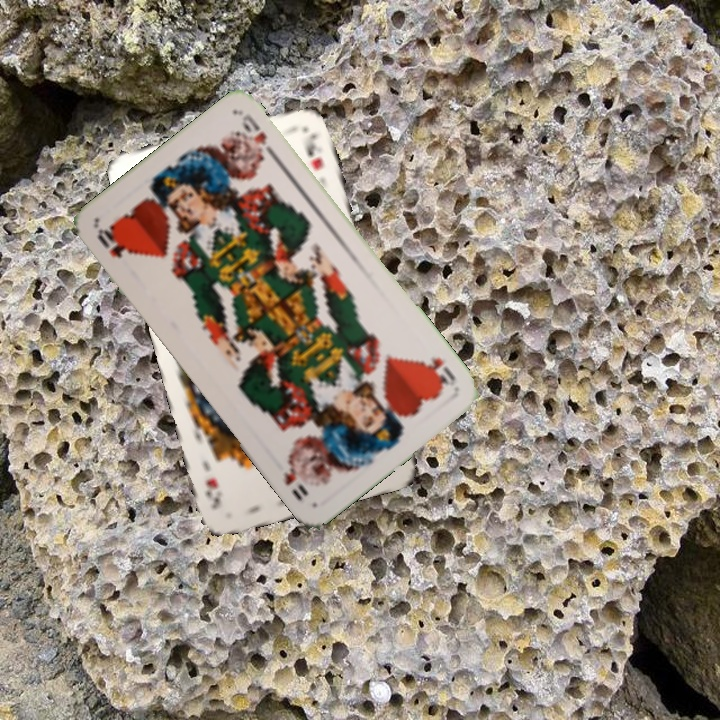HO: (93, 222, 133, 261), (418, 352, 458, 391)
